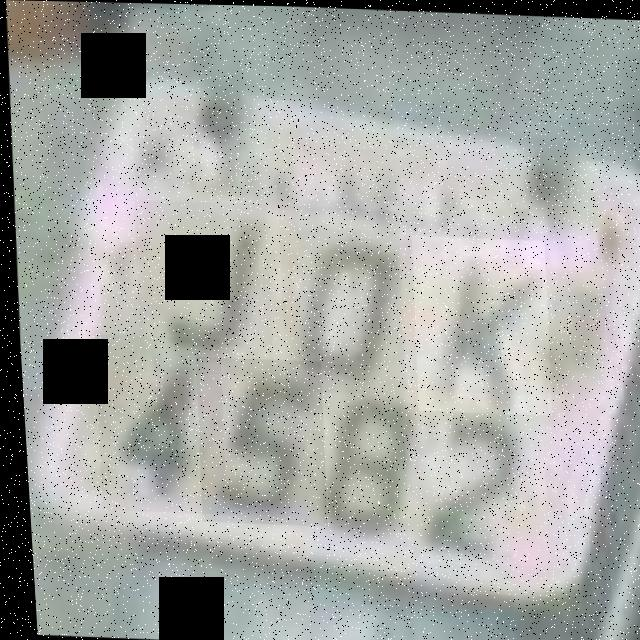2: (394, 387, 545, 565)
4: (87, 333, 223, 513)
5: (188, 355, 324, 525)
8: (297, 369, 428, 549)
J: (128, 199, 271, 375)
K: (405, 233, 549, 413)
O: (272, 204, 404, 393)
